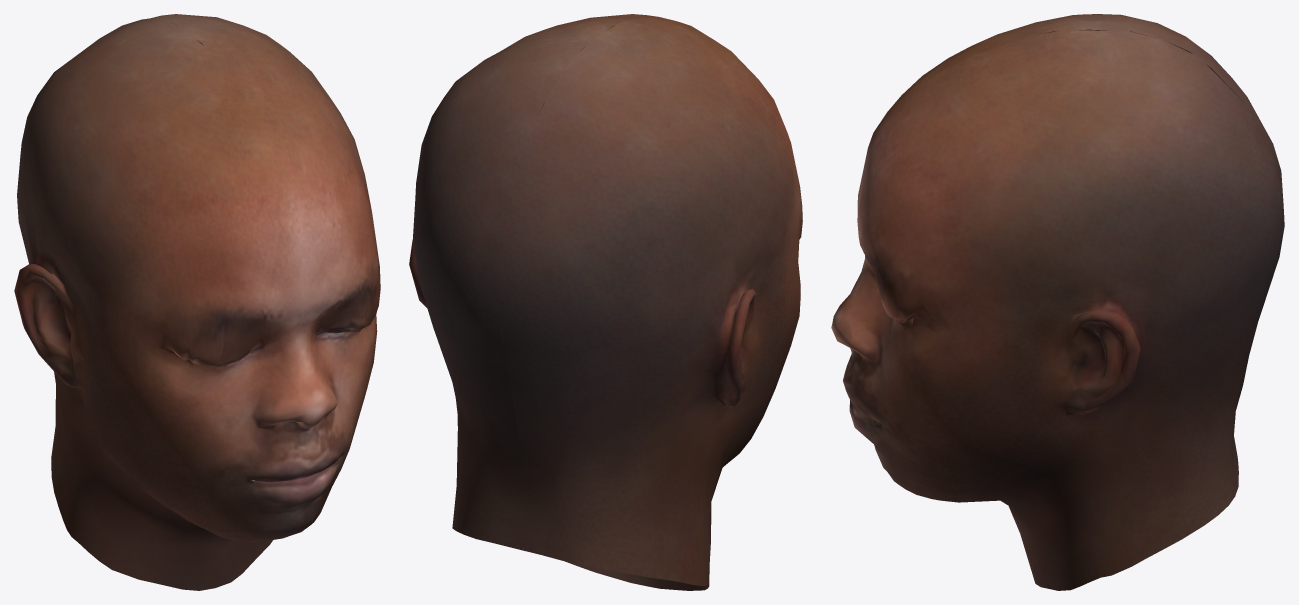
The model's file is blink_000003.obj.
3 renders of one model, left to right at view 1: azimuth 30°, elevation 25°; view 2: azimuth 150°, elevation 25°; view 3: azimuth 270°, elevation 25°, orthographic. The views are drawn at different scales.
Parts seen in each view (by area): view 1: model.002_model.004; view 2: model.002_model.004; view 3: model.002_model.004.
Boxes of the visible parts, x1,y1,x2,y2 form: model.002_model.004: [14, 14, 380, 590]; model.002_model.004: [409, 14, 802, 590]; model.002_model.004: [831, 14, 1284, 590].
Size of the model in its own units: 0.4496 by 0.737 by 0.5526.
Materials: 1 (1 with a texture image).
